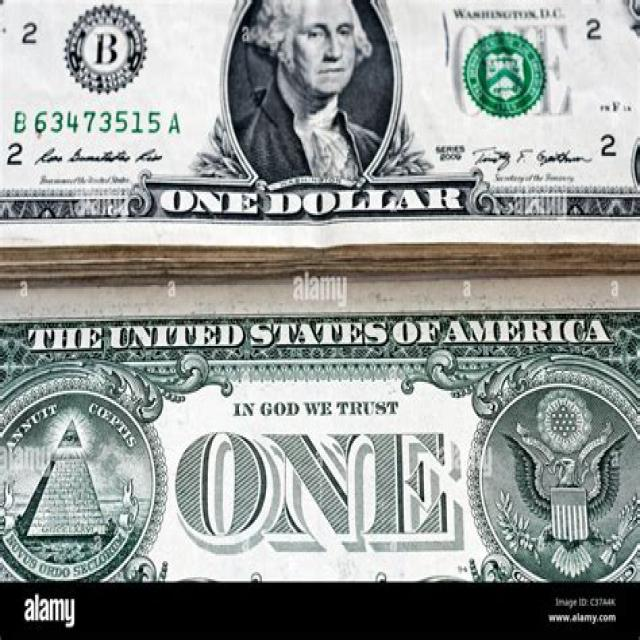One: (0, 290, 640, 581), (0, 0, 640, 248)
